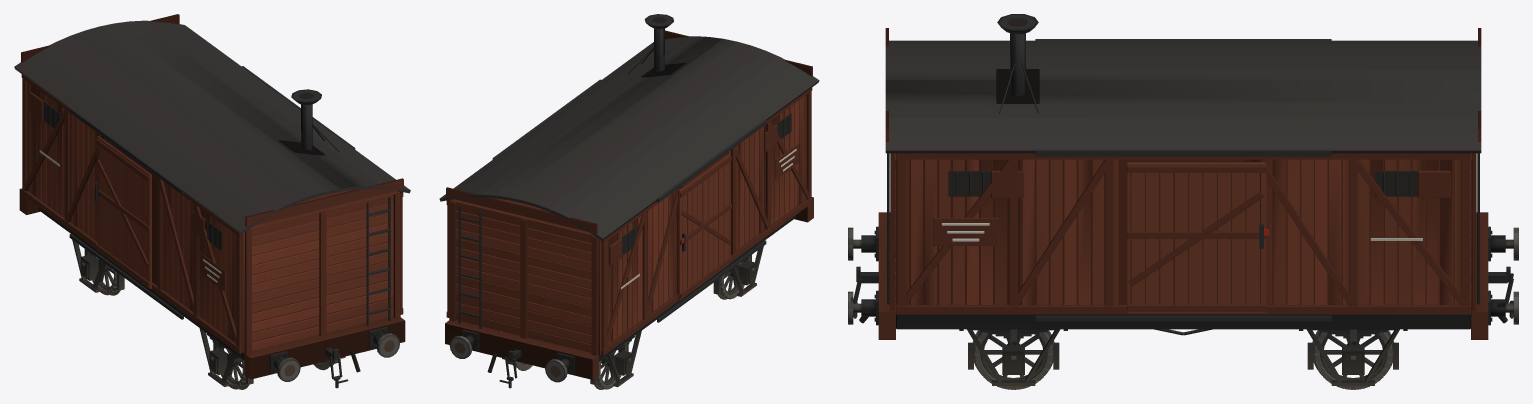
File: yuk.glb
3 renders of one model, left to right at view 1: azimuth 30°, elevation 25°; view 2: azimuth 150°, elevation 25°; view 3: azimuth 270°, elevation 25°, orthographic. The views are drawn at different scales.
Parts seen in each view (by area): view 1: plank-body-001, dark-roof-005, dark-buffers-002, dark-gear-007, dark-hatch-004, dark-frame-001, window-hatch-001, dark-wheel-009, dark-wheel-011; view 2: plank-body-001, dark-roof-005, dark-buffers-003, dark-gear-007, dark-hatch-004, dark-frame-001, dark-wheel-011, window-hatch-001, dark-wheel-009; view 3: plank-body-001, dark-roof-005, dark-frame-001, dark-gear-007, dark-buffers-003, dark-buffers-002, dark-hatch-004, dark-wheel-008, dark-wheel-010, window-hatch-001, dark-soot-006.
Boxes of the visible parts, box(x1,y1,x2,y2) form: plank-body-001: box(21, 66, 403, 354); dark-roof-005: box(14, 14, 410, 234); dark-buffers-002: box(244, 317, 405, 388); dark-gear-007: box(72, 240, 345, 386); dark-hatch-004: box(29, 92, 218, 248); dark-frame-001: box(38, 207, 244, 360); window-hatch-001: box(43, 101, 221, 250); dark-wheel-009: box(215, 347, 248, 389); dark-wheel-011: box(86, 253, 120, 295); plank-body-001: box(446, 79, 812, 355); dark-roof-005: box(439, 14, 819, 240); dark-buffers-003: box(445, 320, 598, 388); dark-gear-007: box(502, 246, 763, 387); dark-hatch-004: box(609, 116, 789, 265); dark-frame-001: box(599, 215, 795, 361); dark-wheel-011: box(594, 349, 626, 389); window-hatch-001: box(621, 113, 791, 255); dark-wheel-009: box(718, 259, 750, 299); plank-body-001: box(887, 39, 1479, 321); dark-roof-005: box(885, 14, 1481, 153); dark-frame-001: box(896, 314, 1470, 329); dark-gear-007: box(959, 329, 1407, 385); dark-buffers-003: box(1471, 212, 1518, 339); dark-buffers-002: box(848, 212, 895, 339); dark-hatch-004: box(956, 170, 1450, 197); dark-wheel-008: box(972, 330, 1054, 389); dark-wheel-010: box(1312, 330, 1394, 389); window-hatch-001: box(948, 170, 1417, 196); dark-soot-006: box(996, 69, 1039, 103).
Bounding box in the file's own units: 3.06 × 4.56 × 7.7.
